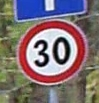limite 30: (15, 18, 88, 86)
